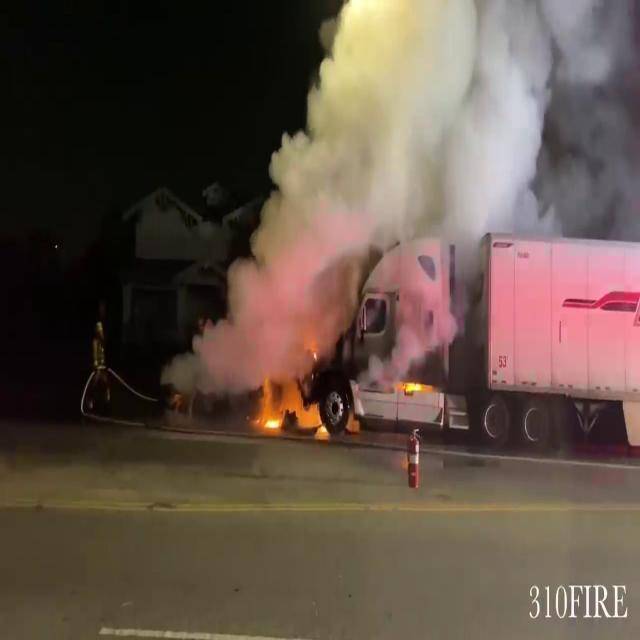Fire: (250, 372, 330, 444)
Smoke: (185, 86, 459, 396), (325, 0, 640, 255)
